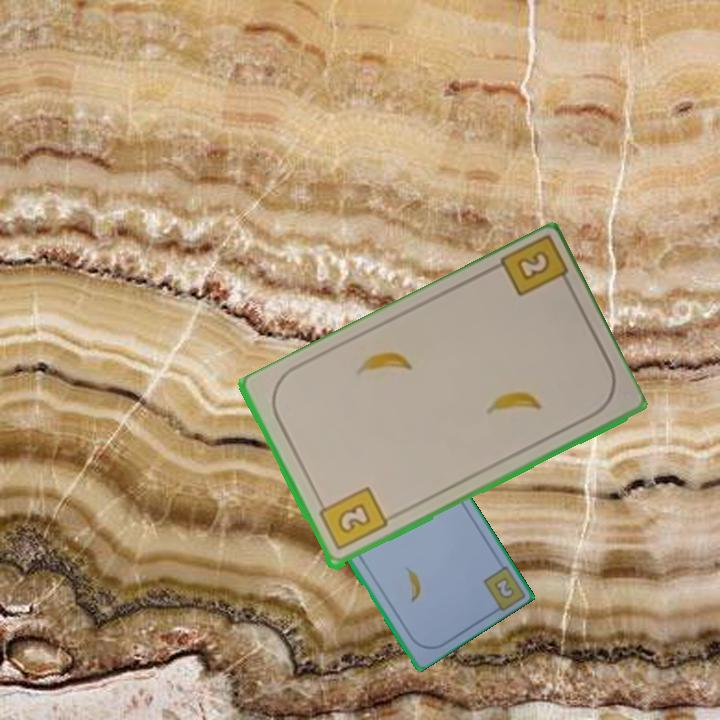2b: (314, 483, 390, 554), (494, 235, 576, 300), (492, 576, 515, 600)
